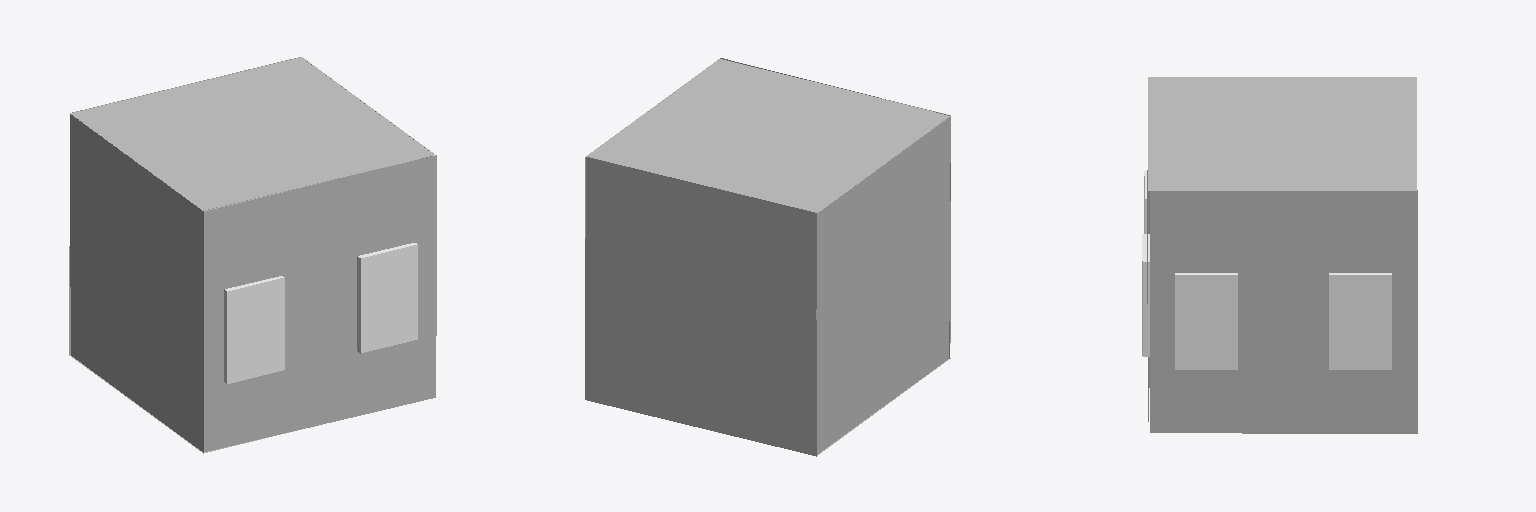
3 renders of one model, left to right at view 1: azimuth 30°, elevation 25°; view 2: azimuth 150°, elevation 25°; view 3: azimuth 270°, elevation 25°, orthographic.
Visible parts, largest first — view 1: Plane.002_Plane.004, Plane.004_Plane.006, Plane.005_Plane.007, CTRL_Hole.003, CTRL_Hole.004; view 2: Plane.001_Plane.003, Plane.004_Plane.006, Plane.005_Plane.007; view 3: Plane.003_Plane.005, Plane.005_Plane.007, CTRL_Hole, CTRL_Hole.005, CTRL_Hole.003.
Boxes of the visible parts, box(x1,y1,x2,y2) form: Plane.002_Plane.004: box(204, 155, 436, 451); Plane.004_Plane.006: box(70, 114, 203, 452); Plane.005_Plane.007: box(70, 57, 434, 211); CTRL_Hole.003: box(357, 243, 417, 353); CTRL_Hole.004: box(224, 276, 284, 383); Plane.001_Plane.003: box(585, 157, 816, 456); Plane.004_Plane.006: box(816, 116, 950, 454); Plane.005_Plane.007: box(586, 59, 950, 213); Plane.003_Plane.005: box(1150, 190, 1417, 433); Plane.005_Plane.007: box(1148, 77, 1416, 190); CTRL_Hole: box(1175, 273, 1237, 369); CTRL_Hole.005: box(1329, 273, 1391, 369); CTRL_Hole.003: box(1142, 234, 1149, 356).
Size of the model in its own units: 13 by 12.82 by 13.17.